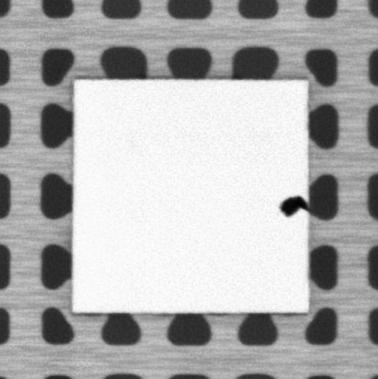DIE_INK: (279, 193, 308, 218)
